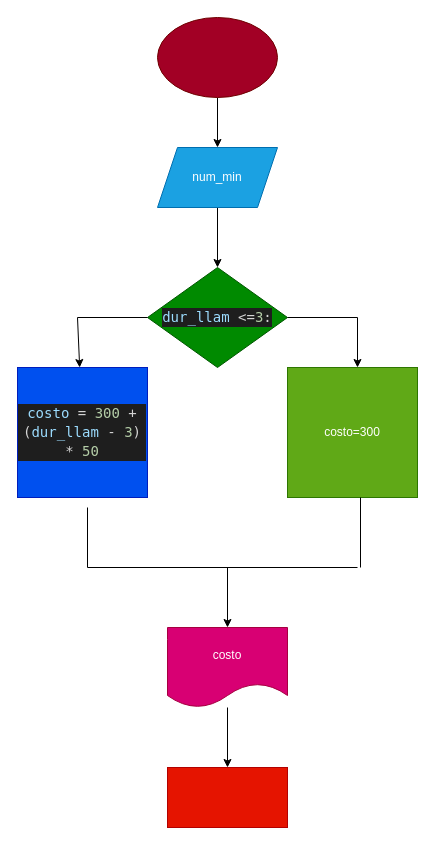
This 435x845 diagram has some shape labels left out. Each missing label, with the centre of its shape:
"FIN" goes at point (227, 797).
"INICIO" goes at point (217, 57).
